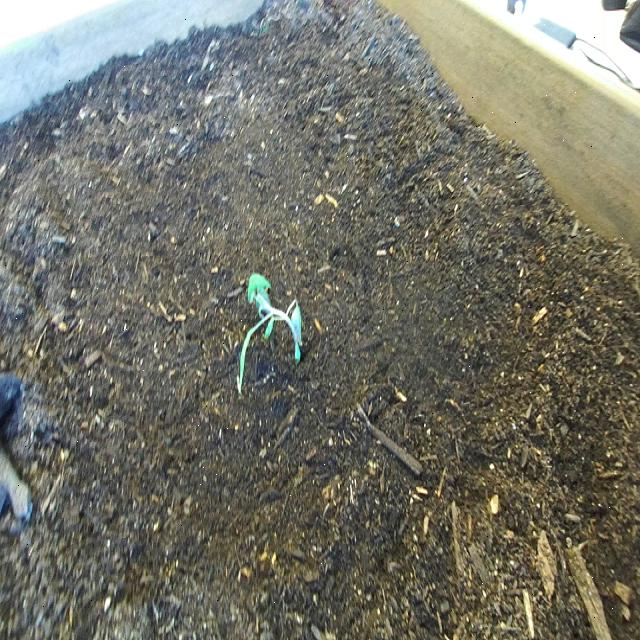Healthy: (234, 267, 309, 397)
